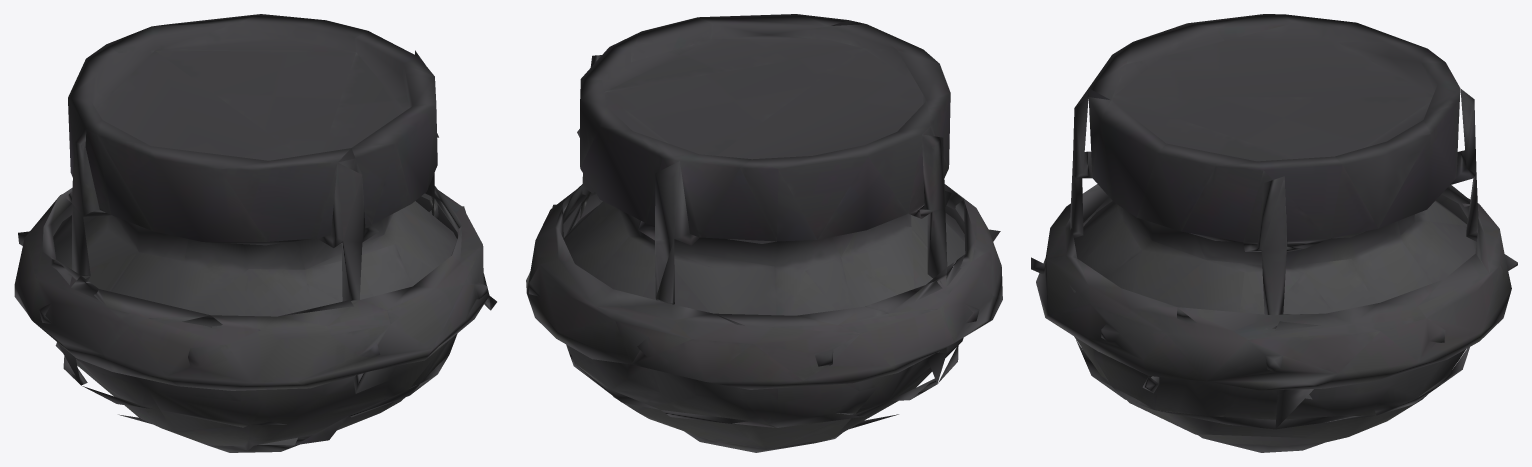
3 views of the same model, side by side, from view 1: azimuth 30°, elevation 25°; view 2: azimuth 150°, elevation 25°; view 3: azimuth 270°, elevation 25° (orthographic).
Size of the model in its own units: 1.9 by 1.39 by 1.9.
1 material, 1 textured.
